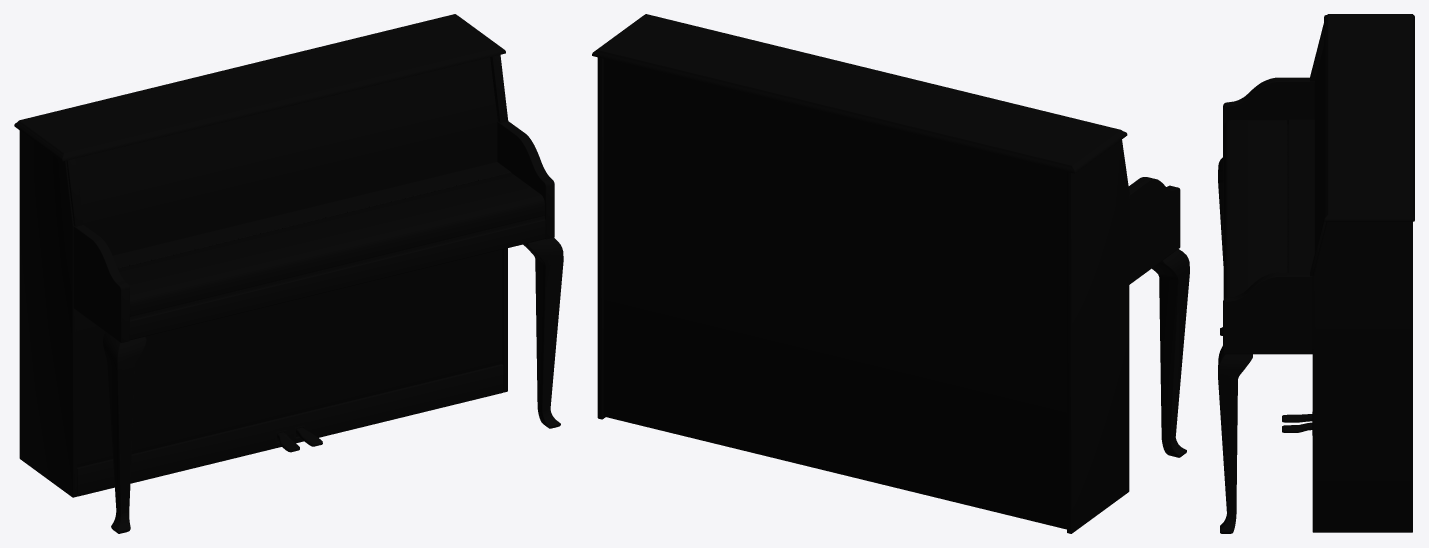
The model's file is piano.fbx.
3 renders of one model, left to right at view 1: azimuth 30°, elevation 25°; view 2: azimuth 150°, elevation 25°; view 3: azimuth 270°, elevation 25°, orthographic. The views are drawn at different scales.
Visible parts, largest first — view 1: node_id199, node_id194; view 2: node_id199; view 3: node_id199 (×2), node_id194.
Boxes of the visible parts, x1,y1,x2,y2 form: node_id199: (14,14,563,533); node_id194: (117,174,499,268); node_id199: (592,14,1189,533); node_id199 (×2): (1218,14,1414,533); node_id194: (1287,124,1288,272).
Bounding box in the file's own units: 0.512 × 0.3713 × 0.2077.
Materials: 12 (12 with a texture image).
